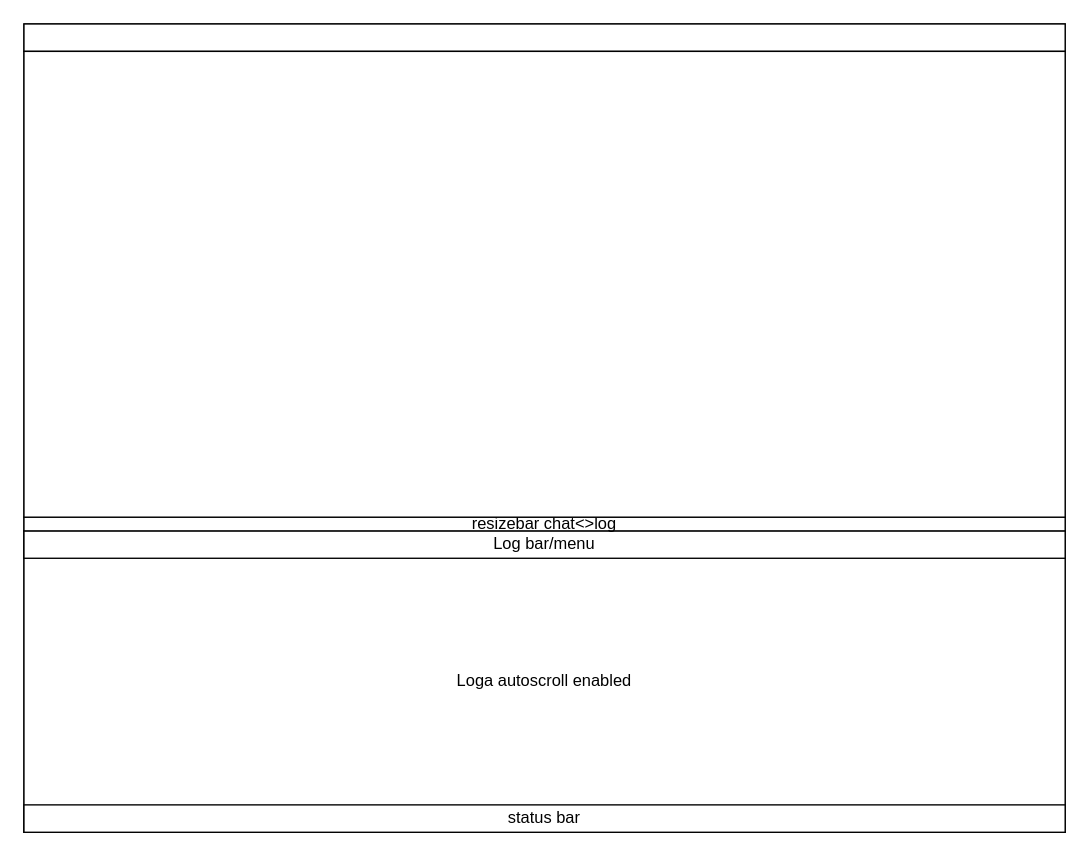
Image size: 1089x856. Some labels were removed from this diagram. The shapes that lost their labels are listed below. From the top down, each one's centre as x and y in pixels, then its label:
At point (544, 37): "top menu".
At point (544, 283): "chat with responses like chat w vscode".
